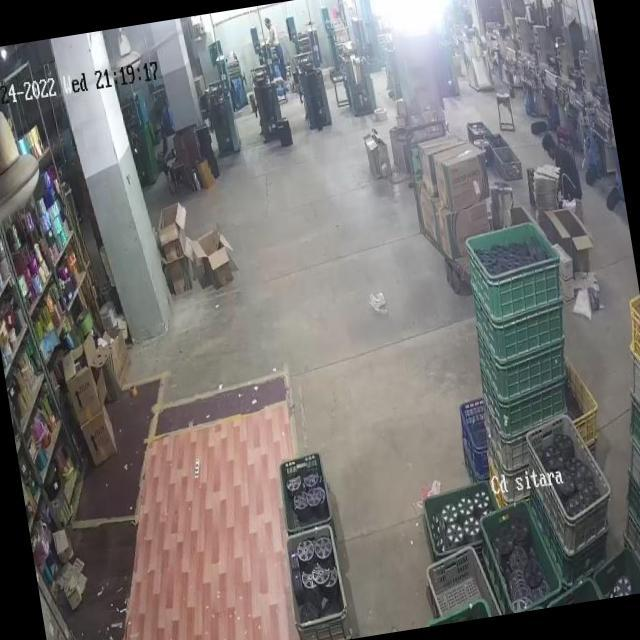person: (540, 125, 584, 208), (264, 13, 288, 88)
